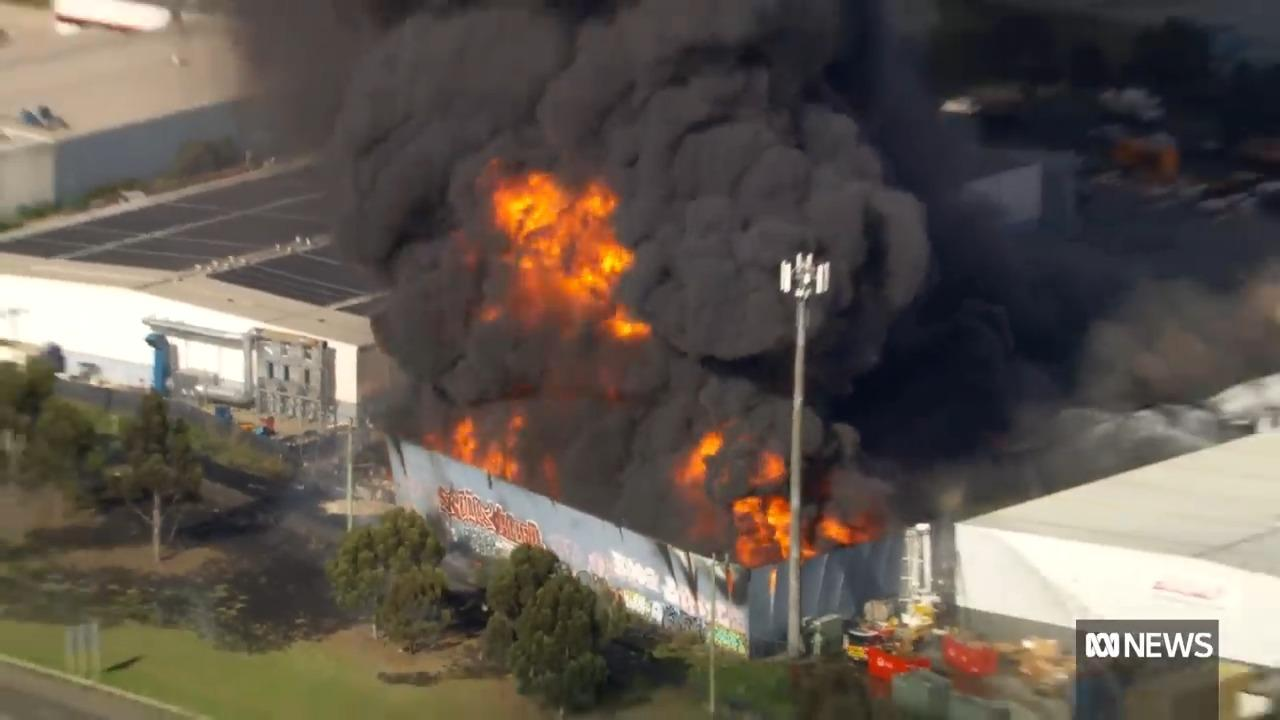fire: (464, 154, 638, 333), (679, 419, 864, 564), (441, 401, 535, 478)
